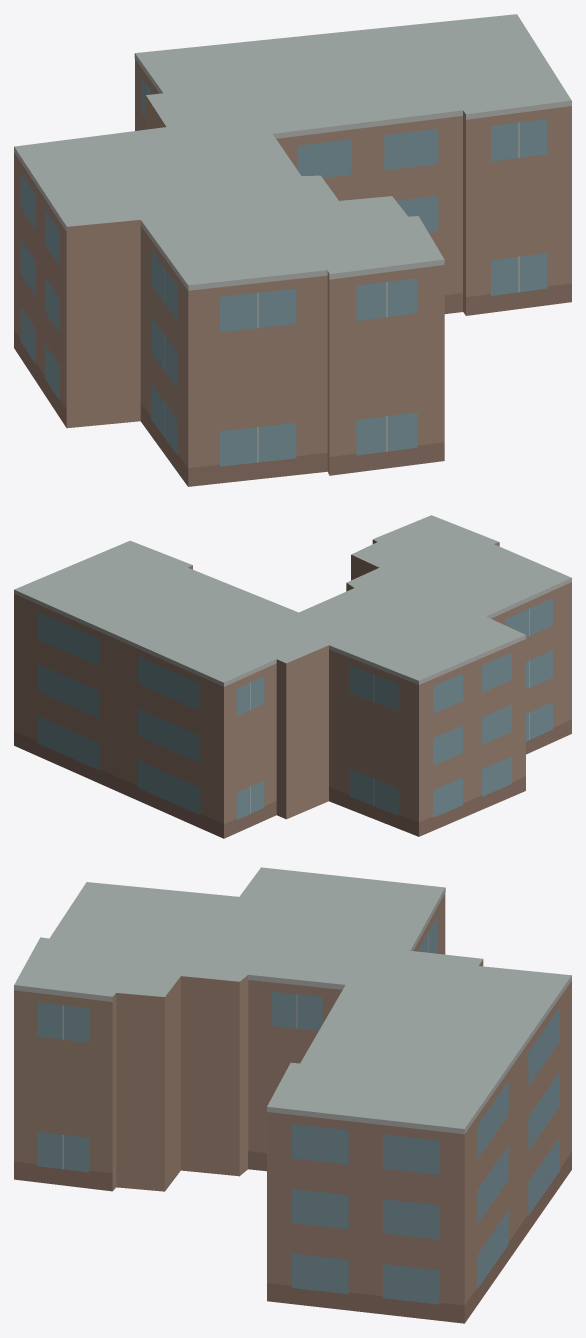
Rendered from survey-upis-32831365.glb.
3 views of the same model, one above another, from view 1: azimuth 30°, elevation 25°; view 2: azimuth 150°, elevation 25°; view 3: azimuth 270°, elevation 25° (orthographic). The views are drawn at different scales.
Visible parts, largest first — view 1: survey-upis-32831365.tmp; view 2: survey-upis-32831365.tmp; view 3: survey-upis-32831365.tmp.
Boxes of the visible parts, x1,y1,x2,y2 form: survey-upis-32831365.tmp: (14,14,571,486); survey-upis-32831365.tmp: (14,515,571,838); survey-upis-32831365.tmp: (14,867,571,1323).
Bounding box in the file's own units: 26.42 × 9.15 × 23.79.
